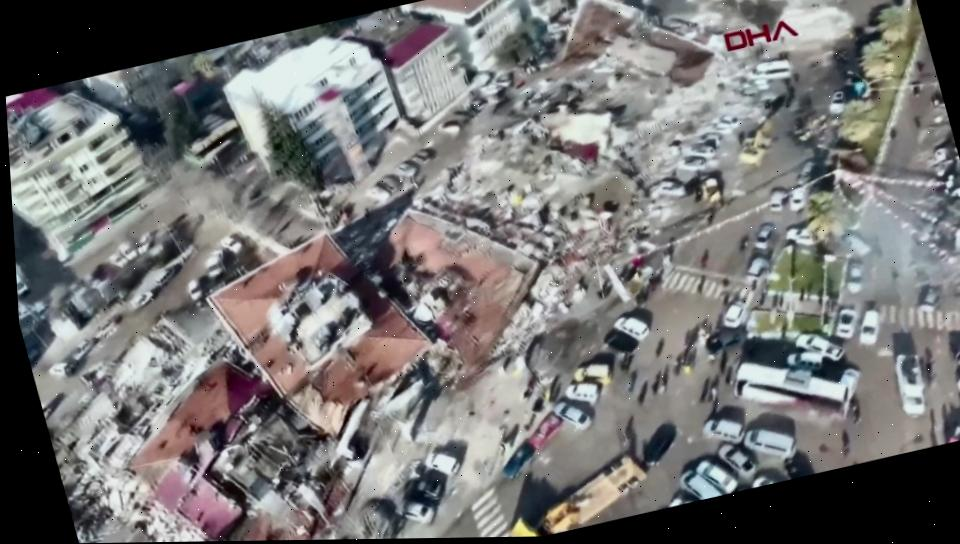kapali: (746, 0, 901, 88)
